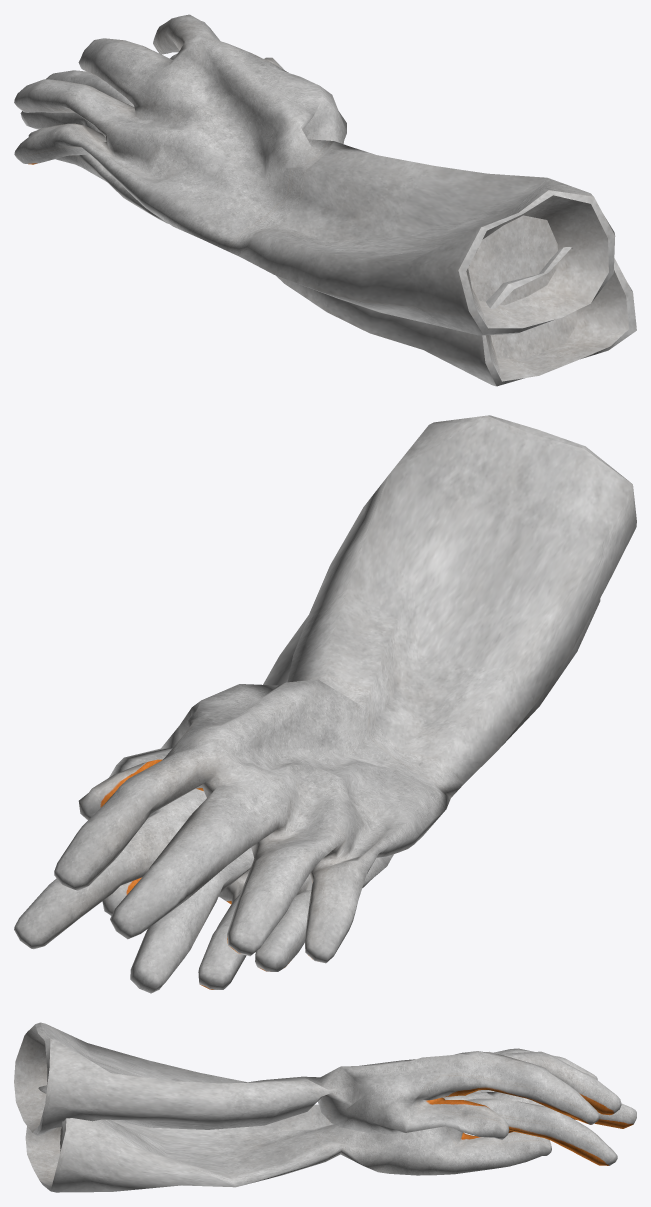
Rendered from guante_cromo_mesa.fbx.
3 views of the same model, one above another, from view 1: azimuth 30°, elevation 25°; view 2: azimuth 150°, elevation 25°; view 3: azimuth 270°, elevation 25° (orthographic). The views are drawn at different scales.
Visible parts, largest first — view 1: guante_con_mangas1:manussssssssssssss001; view 2: guante_con_mangas1:manussssssssssssss001; view 3: guante_con_mangas1:manussssssssssssss001.
Boxes of the visible parts, x1=… form: guante_con_mangas1:manussssssssssssss001: x1=14, y1=14, x2=636, y2=386; guante_con_mangas1:manussssssssssssss001: x1=14, y1=415, x2=636, y2=993; guante_con_mangas1:manussssssssssssss001: x1=14, y1=1022, x2=636, y2=1192.
Bounding box in the file's own units: 53.69 × 31.29 × 131.
